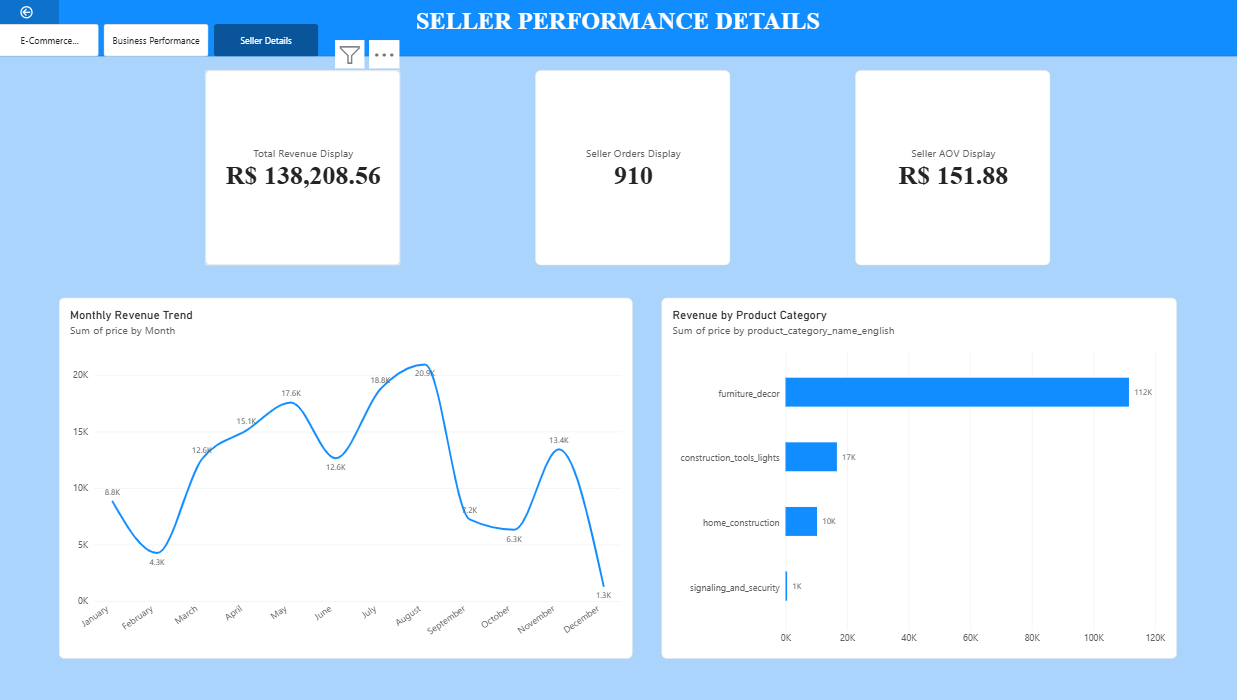

The dashboard page shown, as its layout file describes it:
{"tool":"powerbi","page":{"name":"Seller Details","canvas":[1920,1080],"ordinal":2},"visuals":[{"type":"shape","box":[0,0,1920,88.3],"z":0},{"type":"actionButton","box":[0,0,100,40],"z":1000},{"type":"textbox","box":[624,12,674,58],"z":2000},{"type":"cardVisual","fields":{"Data":["Categories.Total Revenue Display"]},"box":[325,110,300,300],"z":3000},{"type":"cardVisual","fields":{"Data":["Categories.Seller Orders Display"]},"box":[832,110,300,300],"z":4000},{"type":"cardVisual","fields":{"Data":["Categories.Seller AOV Display"]},"box":[1325,110,300,300],"z":5000},{"type":"clusteredBarChart","title":"Revenue by Product Category","fields":{"Category":["Categories.product_category_name_english"],"Y":["Sum(Order Items.price)"]},"box":[1027.5,460,792.5,555],"z":7000},{"type":"lineChart","title":"Monthly Revenue Trend","fields":{"Category":["Orders.order_purchase_timestamp.Variation.Date Hierarchy.Month"],"Y":["Sum(Order Items.price)"]},"box":[100,460,882.5,555],"z":8000},{"type":"pageNavigator","box":[0,37.5,500,50],"z":8001}]}

Visuals, with their boxes on the page's 1920x1080 design canvas (x1, y1, x2, y2). These are canvas units, not pixel positions in the 1237x700 screenshot, which may show the page scaled, cropped or inside an application window:
shape: bbox=[0, 0, 1920, 88]
actionButton: bbox=[0, 0, 100, 40]
textbox: bbox=[624, 12, 1298, 70]
cardVisual - Categories.Total Revenue Display: bbox=[325, 110, 625, 410]
cardVisual - Categories.Seller Orders Display: bbox=[832, 110, 1132, 410]
cardVisual - Categories.Seller AOV Display: bbox=[1325, 110, 1625, 410]
"Revenue by Product Category" clusteredBarChart: bbox=[1028, 460, 1820, 1015]
"Monthly Revenue Trend" lineChart: bbox=[100, 460, 982, 1015]
pageNavigator: bbox=[0, 38, 500, 88]
